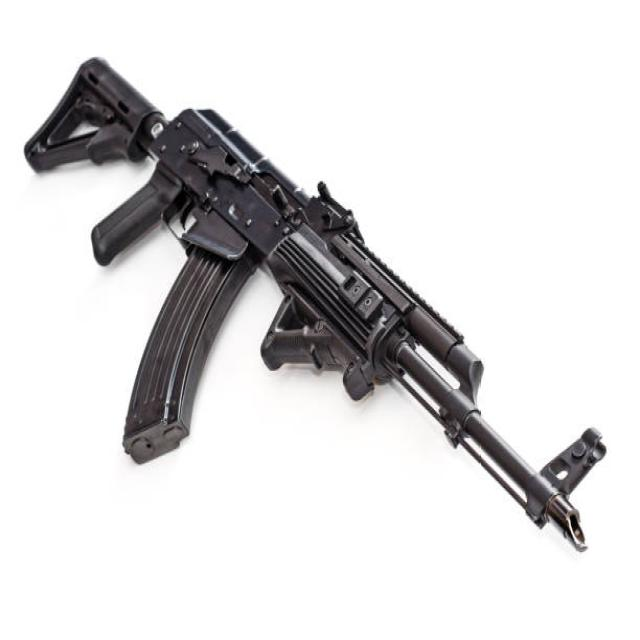rifle: (24, 37, 611, 569)
